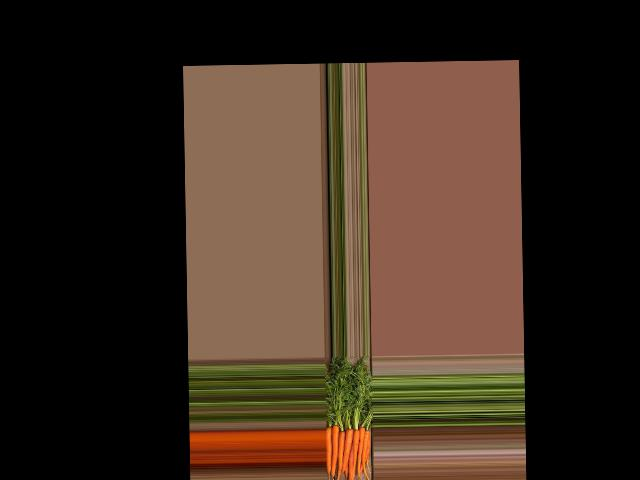carrot: (325, 425, 334, 477)
